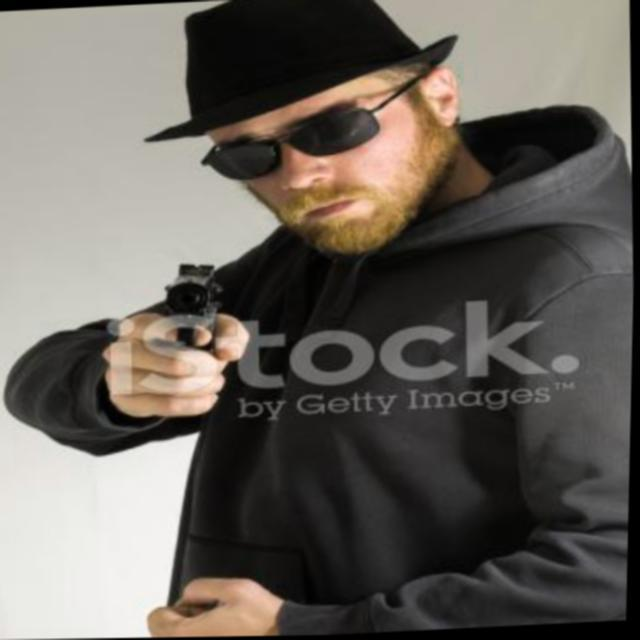weapon: (155, 255, 245, 420)
